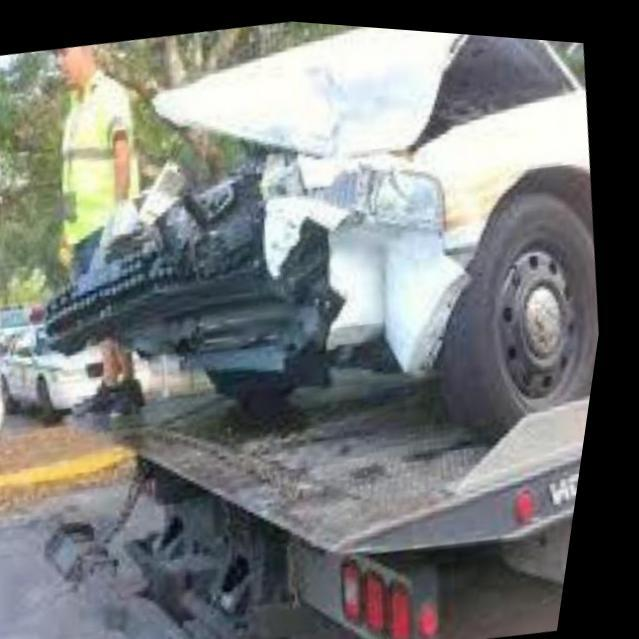dislocated part: (148, 21, 586, 153)
no part: (51, 168, 353, 367)
